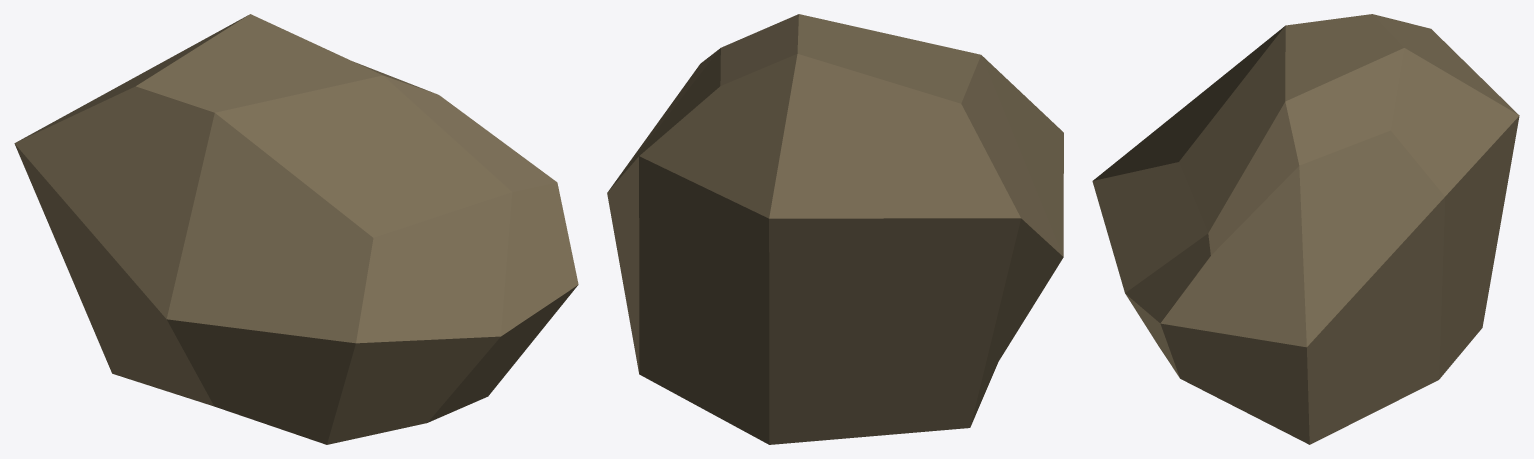
The model's file is rock_2.obj.
The picture shows the model from 3 angles, left to right: view 1: azimuth 30°, elevation 25°; view 2: azimuth 150°, elevation 25°; view 3: azimuth 270°, elevation 25°; orthographic projection. The views are drawn at different scales.
Parts seen in each view (by area): view 1: rock_2; view 2: rock_2; view 3: rock_2.
Boxes of the visible parts, x1,y1,x2,y2 form: rock_2: [14, 14, 578, 444]; rock_2: [607, 14, 1063, 444]; rock_2: [1092, 14, 1519, 444].
Size of the model in its own units: 2.57 by 2 by 2.37.
